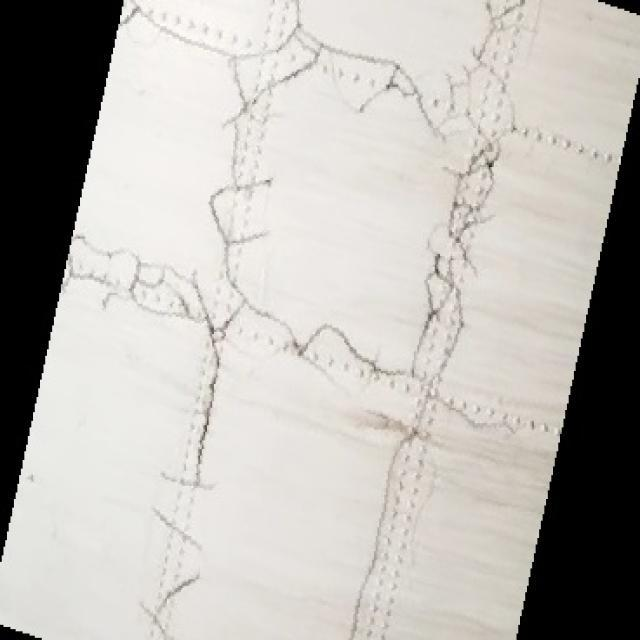crack: (349, 3, 530, 635), (137, 3, 315, 639), (65, 223, 523, 442), (113, 3, 518, 151)
